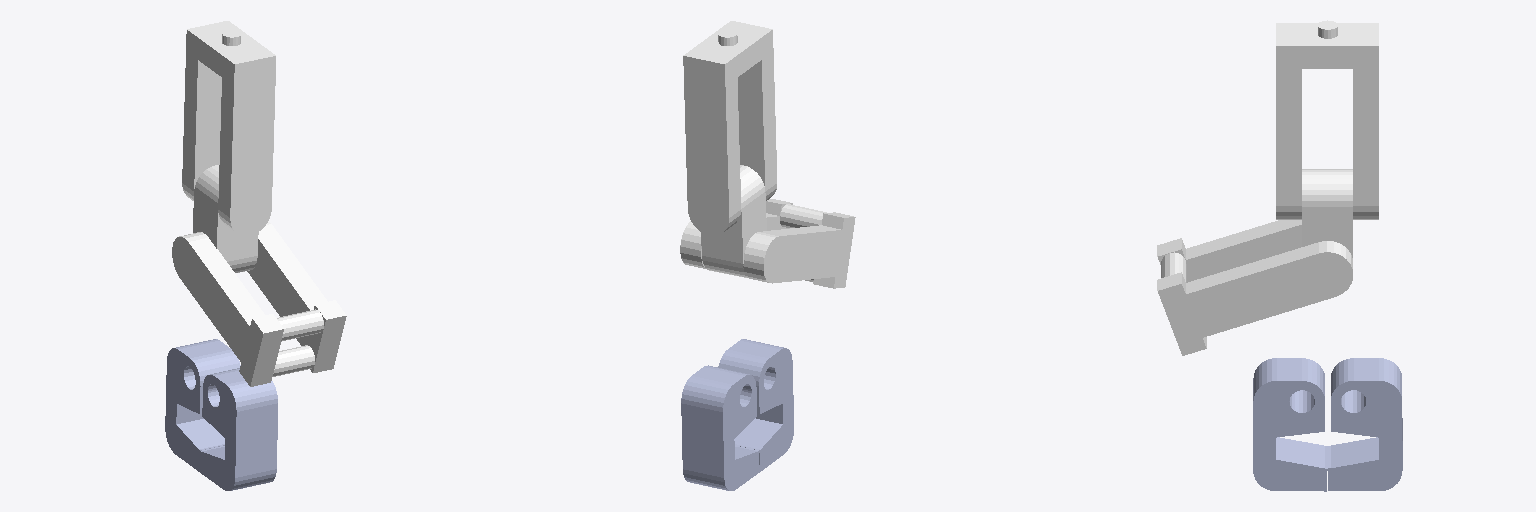
robot.urdf — claw4:
<?xml version="1.0" encoding="utf-8"?>
<!-- This URDF was automatically created by SolidWorks to URDF Exporter! Originally created by Stephen Brawner (brawner@gmail.com) 
     Commit Version: 1.5.1-0-g916b5db  Build Version: 1.5.7152.31018
     For more information, please see http://wiki.ros.org/sw_urdf_exporter -->
<robot
  name="claw4">
  <link
    name="P_base_Link">
    <inertial>
      <origin
        xyz="-0.00628475211178409 4.44089209850063E-16 -0.201786859514905"
        rpy="0 0 0" />
      <mass
        value="6.45985390928753" />
      <inertia
        ixx="0.0831917714950416"
        ixy="8.19250266584359E-18"
        ixz="-0.00141801465827444"
        iyy="0.0556863824606013"
        iyz="2.60208521396521E-18"
        izz="0.0377072153961648" />
    </inertial>
    <visual>
      <origin
        xyz="0 0 0"
        rpy="0 0 0" />
      <geometry>
        <mesh
          filename="../meshes/P_base_Link.STL" />
      </geometry>
      <material
        name="">
        <color
          rgba="1 1 1 0.5" />
      </material>
    </visual>
    <collision>
      <origin
        xyz="0 0 0"
        rpy="0 0 0" />
      <geometry>
        <mesh
          filename="../meshes/P_base_Link.STL" />
      </geometry>
    </collision>
  </link>
  <link
    name="P_1_Link">
    <inertial>
      <origin
        xyz="-0.0624987281243594 0.000398726519576453 -1.11022302462516E-16"
        rpy="0 0 0" />
      <mass
        value="2.29977871437822" />
      <inertia
        ixx="0.00397637847664011"
        ixy="3.79971497935492E-05"
        ixz="-6.28837260041593E-18"
        iyy="0.00993203169150051"
        iyz="5.75982404132924E-20"
        izz="0.00993227410397426" />
    </inertial>
    <visual>
      <origin
        xyz="0 0 0"
        rpy="0 0 0" />
      <geometry>
        <mesh
          filename="../meshes/P_1_Link.STL" />
      </geometry>
      <material
        name="">
        <color
          rgba="1 1 1 0.5" />
      </material>
    </visual>
    <collision>
      <origin
        xyz="0 0 0"
        rpy="0 0 0" />
      <geometry>
        <mesh
          filename="../meshes/P_1_Link.STL" />
      </geometry>
    </collision>
  </link>
  <joint
    name="P_base_to_1_Link"
    type="revolute">
    <origin
      xyz="-0.011518 0 -0.36982"
      rpy="-1.5708 -1.5397 0" />
    <parent
      link="P_base_Link" />
    <child
      link="P_1_Link" />
    <axis
      xyz="0 0 1" />
    <limit
      lower="-3.14"
      upper="3.14"
      effort="150"
      velocity="10" />
  </joint>
  <link
    name="P_2_Link">
    <inertial>
      <origin
        xyz="0.0261395676013935 0.156837405589298 -1.56413770824315E-12"
        rpy="0 0 0" />
      <mass
        value="6.27444678594553" />
      <inertia
        ixx="0.113519091227121"
        ixy="-0.0123362492990608"
        ixz="-1.56369058326722E-16"
        iyy="0.0415576369785267"
        iyz="-8.70755799008052E-16"
        izz="0.0901215297519561" />
    </inertial>
    <visual>
      <origin
        xyz="0 0 0"
        rpy="0 0 0" />
      <geometry>
        <mesh
          filename="../meshes/P_2_Link.STL" />
      </geometry>
      <material
        name="">
        <color
          rgba="1 1 1 0.5" />
      </material>
    </visual>
    <collision>
      <origin
        xyz="0 0 0"
        rpy="0 0 0" />
      <geometry>
        <mesh
          filename="../meshes/P_2_Link.STL" />
      </geometry>
    </collision>
  </link>
  <joint
    name="P_1_to_2_Link"
    type="revolute">
    <origin
      xyz="-0.125 0.00079745 0"
      rpy="1.5708 1.4048 3.1352" />
    <parent
      link="P_1_Link" />
    <child
      link="P_2_Link" />
    <axis
      xyz="0 0 -1" />
    <limit
      lower="-3.14"
      upper="3.14"
      effort="150"
      velocity="10" />
  </joint>
  <link
    name="P_left_Link">
    <inertial>
      <origin
        xyz="-0.0767592691209198 -0.0318355690780961 -5.96189764223709E-14"
        rpy="0 0 0" />
      <mass
        value="3.42978569666941" />
      <inertia
        ixx="0.00846063169868968"
        ixy="0.000519739491652344"
        ixz="-3.9091099911378E-17"
        iyy="0.0209274055901608"
        iyz="4.70950318673391E-19"
        izz="0.0236717277944015" />
    </inertial>
    <visual>
      <origin
        xyz="0 0 0"
        rpy="0 0 0" />
      <geometry>
        <mesh
          filename="../meshes/P_left_Link.STL" />
      </geometry>
      <material
        name="">
        <color
          rgba="0.792156862745098 0.819607843137255 0.933333333333333 1" />
      </material>
    </visual>
    <collision>
      <origin
        xyz="0 0 0"
        rpy="0 0 0" />
      <geometry>
        <mesh
          filename="../meshes/P_left_Link.STL" />
      </geometry>
    </collision>
  </link>
  <joint
    name="P_2_to_left_Link"
    type="revolute">
    <origin
      xyz="0 0.30414 0"
      rpy="0 0 -1.7359" />
    <parent
      link="P_2_Link" />
    <child
      link="P_left_Link" />
    <axis
      xyz="-0.27332 0.00021897 0.96192" />
    <limit
      lower="-3.14"
      upper="3.14"
      effort="500000000"
      velocity="10" />
  </joint>
  <link
    name="P_right_Link">
    <inertial>
      <origin
        xyz="0.0746665698561824 0.0364745418222668 0"
        rpy="0 0 0" />
      <mass
        value="3.42978569666941" />
      <inertia
        ixx="0.00844383484025404"
        ixy="-0.000245854364462978"
        ixz="-1.50327172313957E-18"
        iyy="0.0209442024485965"
        iyz="-8.94466792300541E-19"
        izz="0.0236717277944015" />
    </inertial>
    <visual>
      <origin
        xyz="0 0 0"
        rpy="0 0 0" />
      <geometry>
        <mesh
          filename="../meshes/P_right_Link.STL" />
      </geometry>
      <material
        name="">
        <color
          rgba="0.792156862745098 0.819607843137255 0.933333333333333 1" />
      </material>
    </visual>
    <collision>
      <origin
        xyz="0 0 0"
        rpy="0 0 0" />
      <geometry>
        <mesh
          filename="../meshes/P_right_Link.STL" />
      </geometry>
    </collision>
  </link>
  <joint
    name="P_2_to_right_Link"
    type="revolute">
    <origin
      xyz="0.098639 0.2877 0"
      rpy="-3.1416 0 1.4611" />
    <parent
      link="P_2_Link" />
    <child
      link="P_right_Link" />
    <axis
      xyz="-0.27288 -0.015359 0.96192" />
    <limit
      lower="-3.14"
      upper="3.14"
      effort="500000000"
      velocity="10" />
  </joint>
</robot>

--- Facts derived from the render (not from the file) ---
Views: 3 orthographic renders of the robot side by side, from view 1: azimuth 30°, elevation 25°; view 2: azimuth 150°, elevation 25°; view 3: azimuth 270°, elevation 25°.
Model claw4 with 5 links and 4 joints (4 revolute), rooted at P_base_Link, posed every joint at zero.
Visible links, largest first — view 1: P_base_Link, P_2_Link, P_right_Link, P_left_Link, P_1_Link; view 2: P_base_Link, P_2_Link, P_left_Link, P_right_Link, P_1_Link; view 3: P_2_Link, P_base_Link, P_right_Link, P_left_Link, P_1_Link.
Boxes of the visible links, bbox=[...] form: P_base_Link: bbox=[182, 21, 275, 235]; P_2_Link: bbox=[172, 221, 346, 386]; P_right_Link: bbox=[200, 368, 277, 490]; P_left_Link: bbox=[165, 339, 240, 471]; P_1_Link: bbox=[193, 165, 258, 272]; P_base_Link: bbox=[683, 21, 776, 235]; P_2_Link: bbox=[680, 199, 855, 288]; P_left_Link: bbox=[681, 365, 759, 490]; P_right_Link: bbox=[718, 339, 793, 471]; P_1_Link: bbox=[701, 165, 766, 277]; P_2_Link: bbox=[1157, 220, 1352, 355]; P_base_Link: bbox=[1276, 20, 1378, 219]; P_right_Link: bbox=[1253, 358, 1327, 491]; P_left_Link: bbox=[1328, 358, 1402, 490]; P_1_Link: bbox=[1302, 169, 1352, 257].
Size in the robot's own frame: 0.2055 by 0.4772 by 0.9918 metres.
5 mesh visuals loaded from 5 distinct referenced files (5 binary STL).
